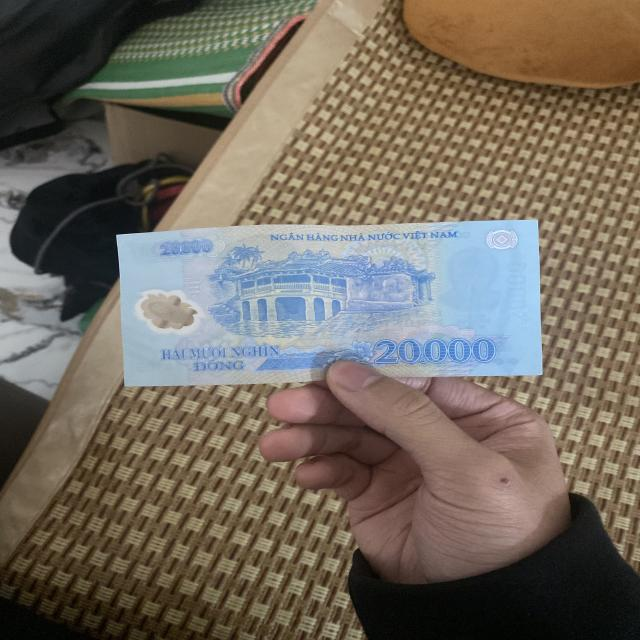20 000 VND: (115, 218, 544, 388)
